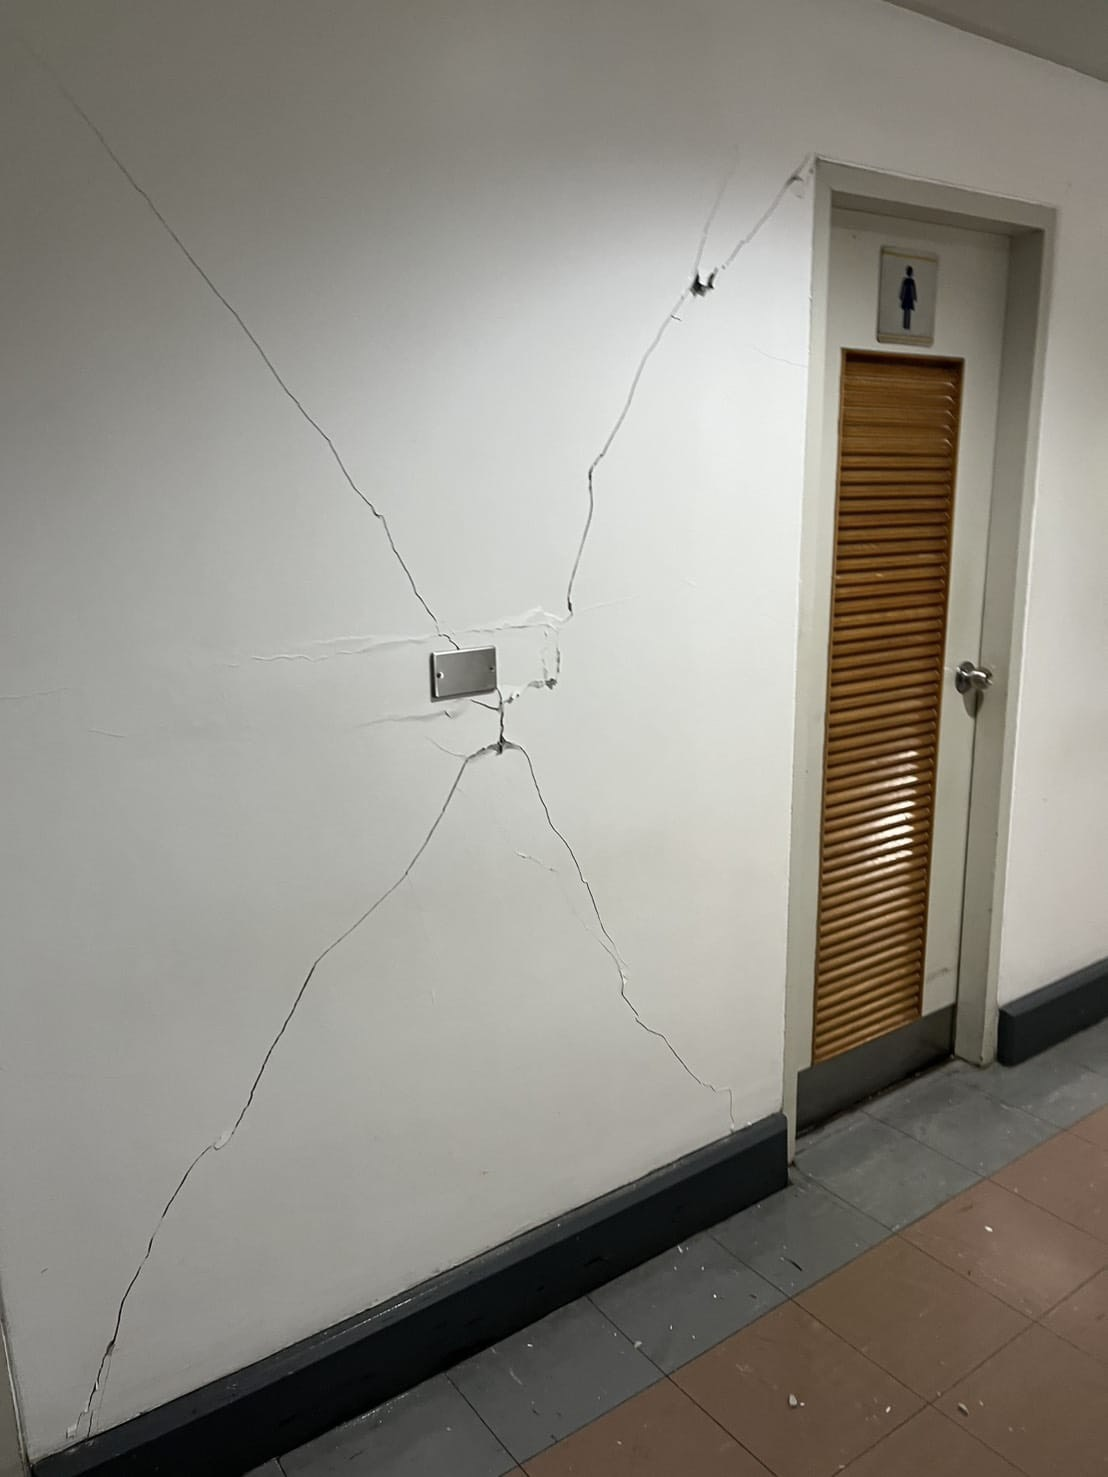High: (5, 3, 812, 1368)
